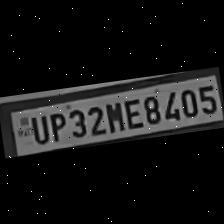0: (176, 84, 198, 117)
2: (84, 100, 107, 136)
3: (64, 104, 88, 138)
4: (158, 86, 181, 122)
5: (194, 81, 218, 115)
8: (140, 92, 162, 125)
E: (121, 94, 143, 128)
M: (102, 97, 124, 132)
P: (45, 108, 68, 142)
U: (27, 111, 50, 144)
